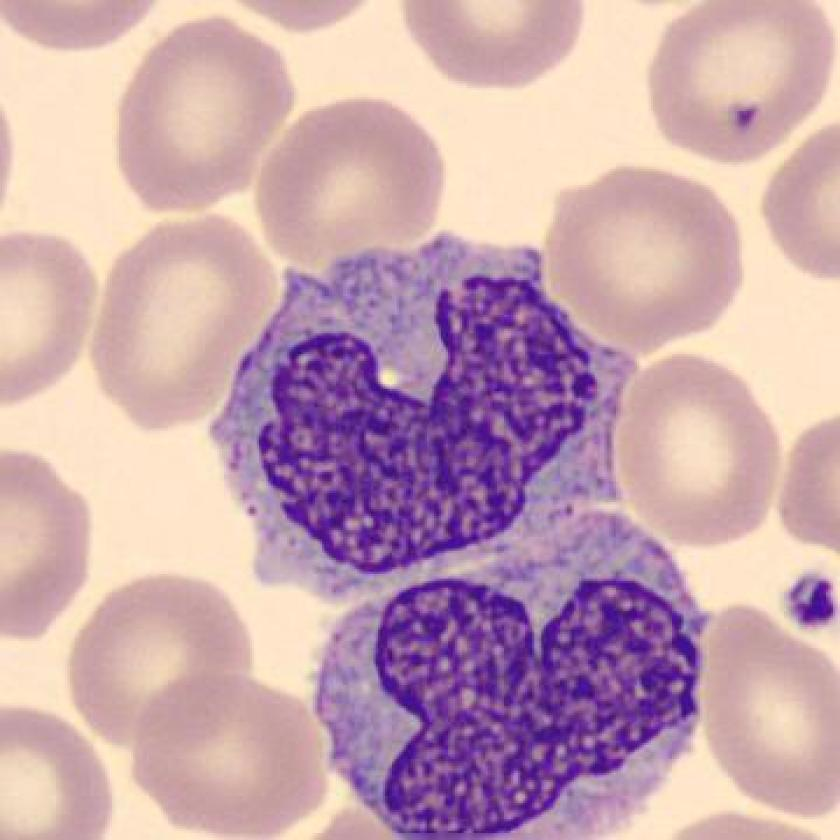monocyte: (195, 223, 636, 598)
